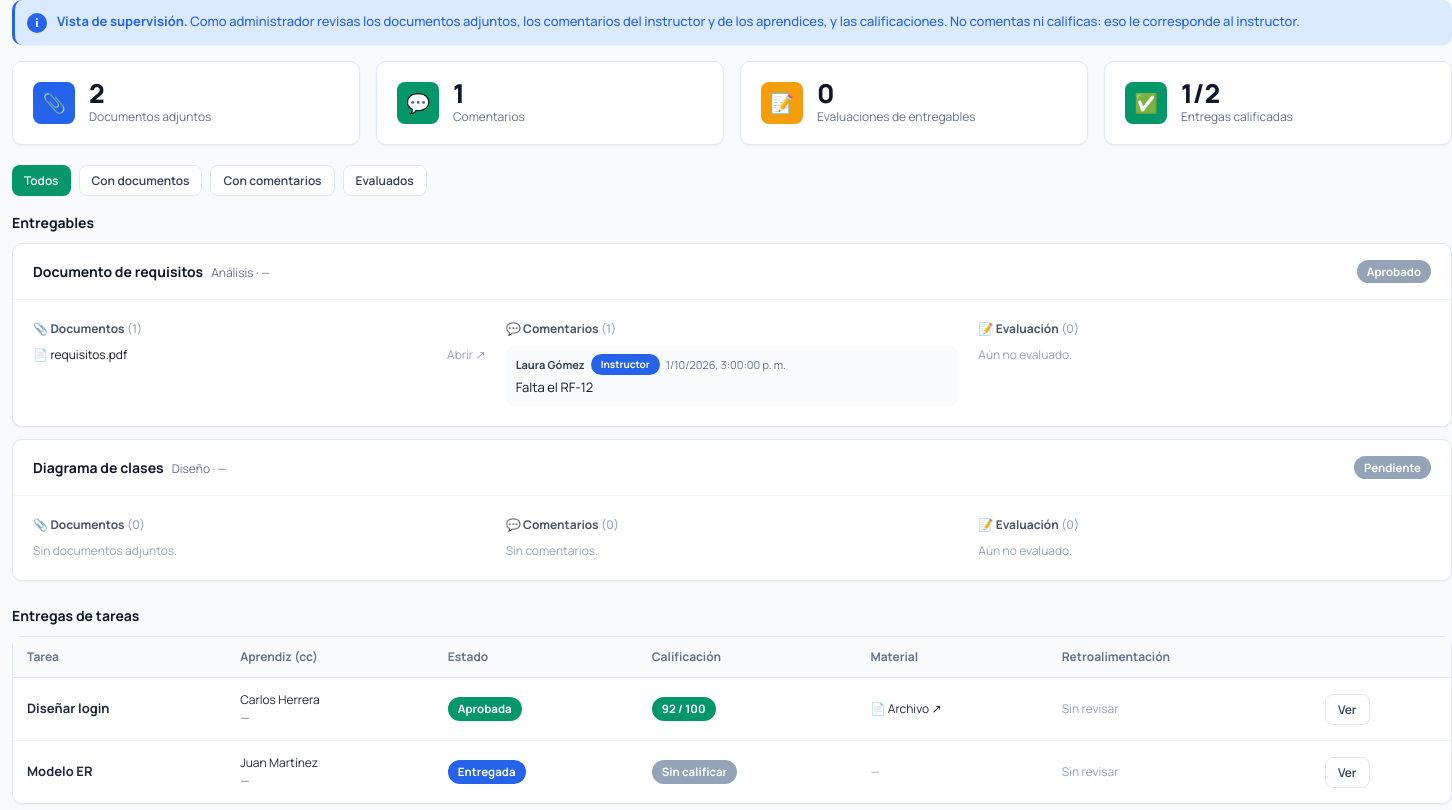
Test: RevisionProyecto › should only show the deliverables with documents when that filter is chosen
Check: the text "Diagrama de clases" is shown, box [33,458,164,477]
What coordinates should you click on to do the following:
click the button "Con documentos"
I would click on:
 (140, 180)
Its box is [78,165,202,196].
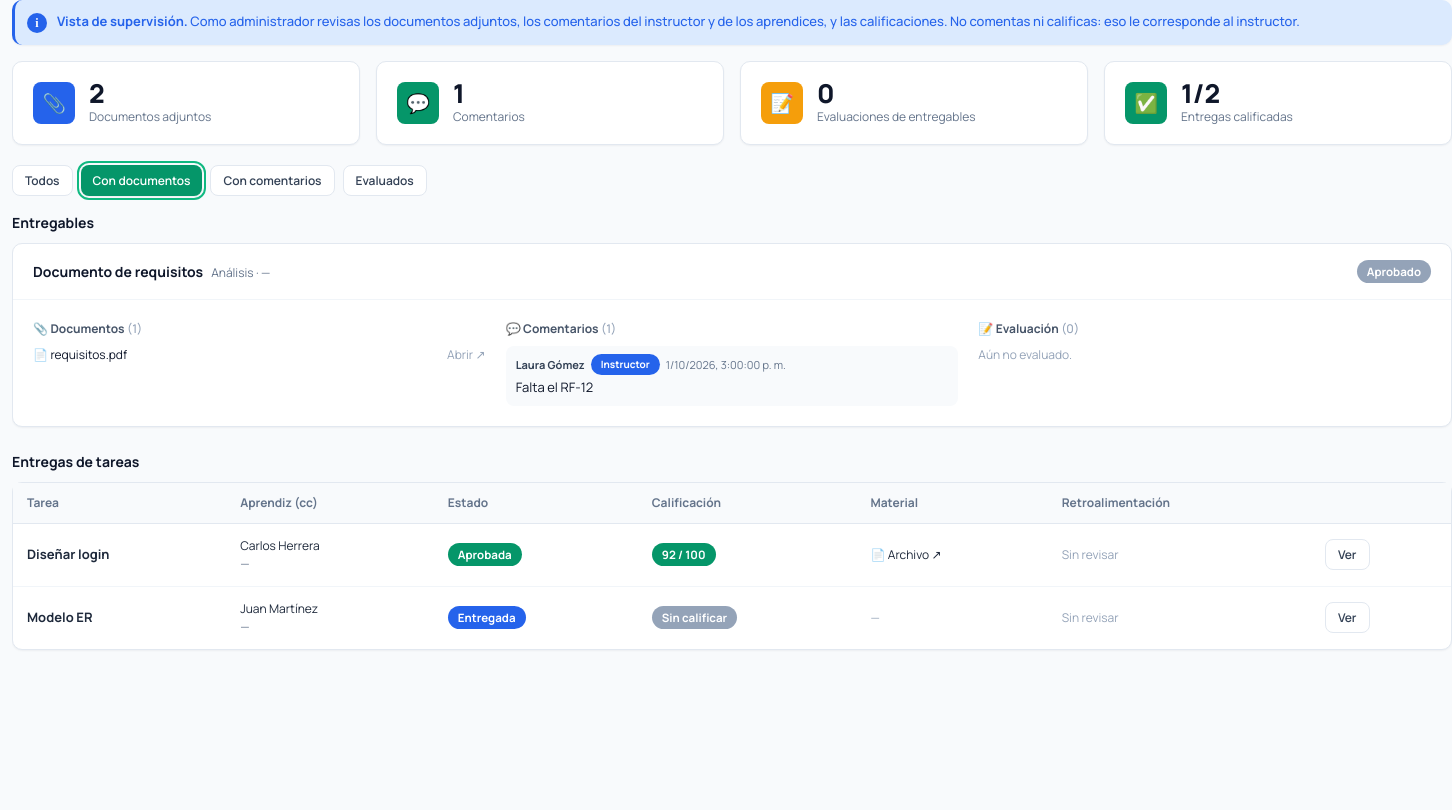
Check: the text "Documento de requisitos" is shown, box [33,262,203,281]
Check: the text "Diagrama de clases" is gone
